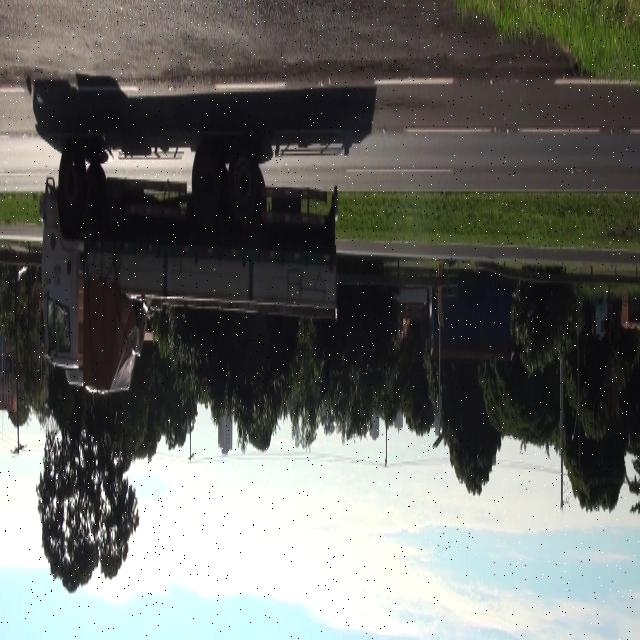-axle: (191, 137, 225, 227), (229, 140, 259, 230), (57, 140, 85, 227)
